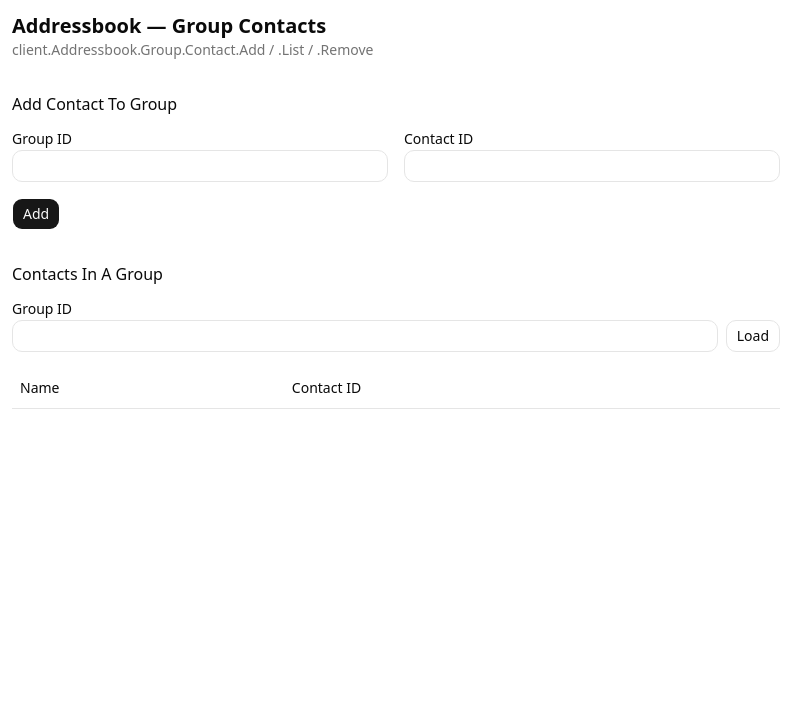
GroupContactsPage › loads the contacts in a group and lists them
The width and height of the screenshot is (800, 708).
Step 1. Type "g-1" into the field labelled "Group ID" below "Contacts In A Group" → (365, 336), box [12,320,718,352]
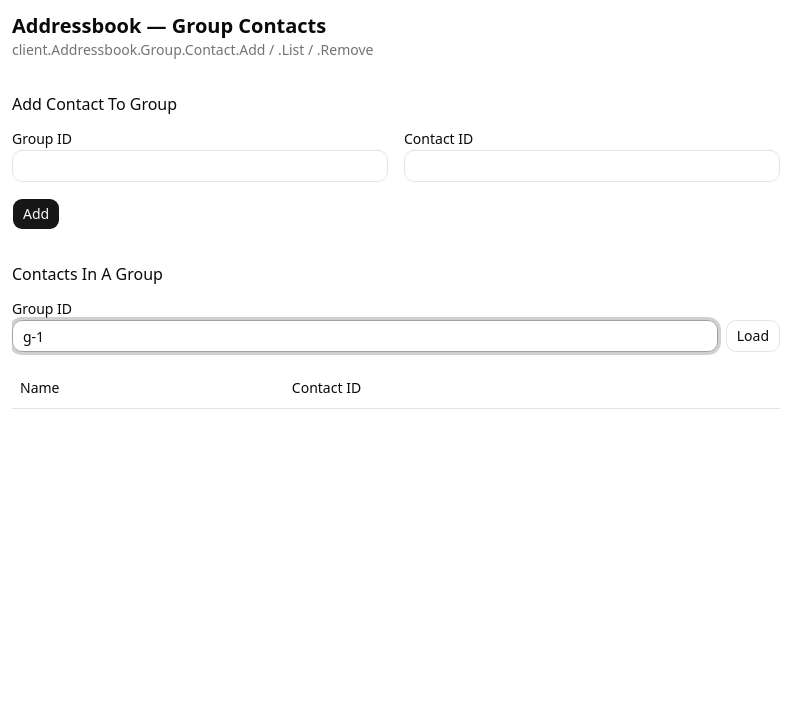
Step 2. Click the button "Load" → (753, 336), box [726,320,780,352]
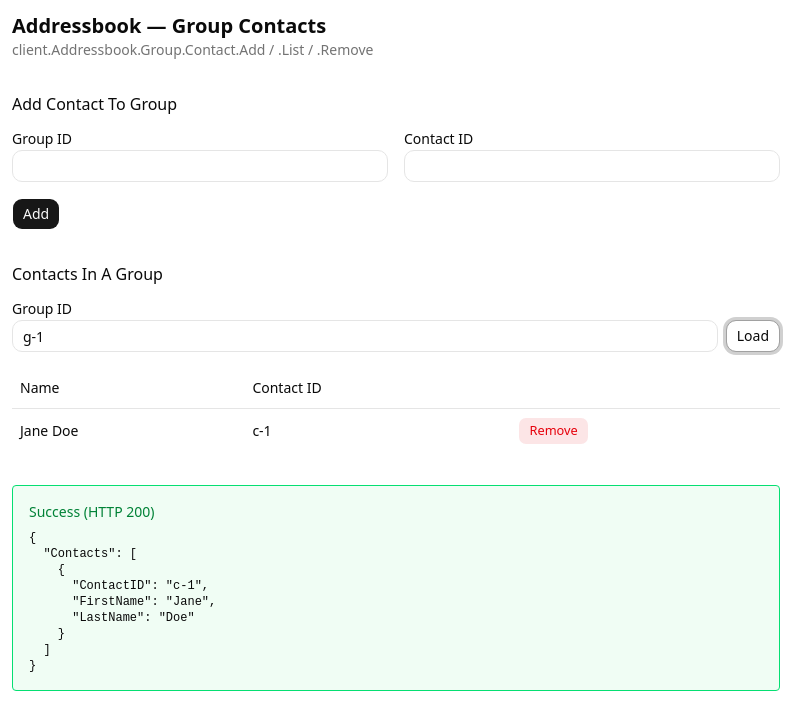
Check: the text "Jane Doe" is shown, box [12,408,244,452]
